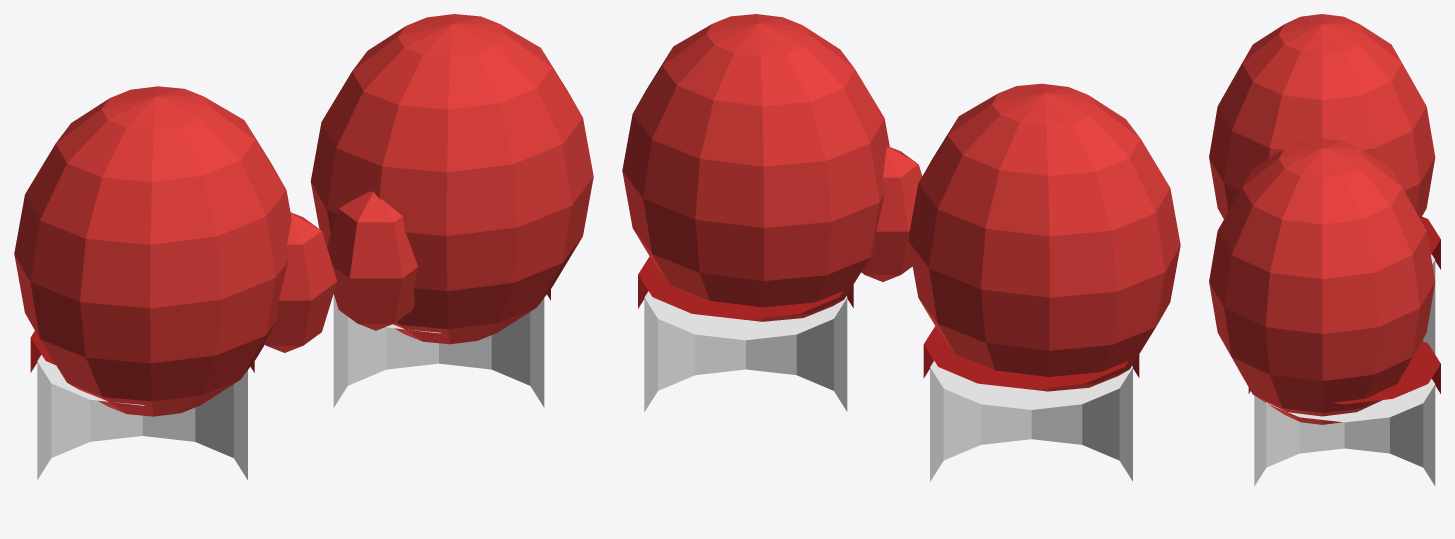
File: boxningshandske.glb
3 views of the same model, side by side, from view 1: azimuth 30°, elevation 25°; view 2: azimuth 150°, elevation 25°; view 3: azimuth 270°, elevation 25° (orthographic). The views are drawn at different scales.
Visible parts, largest first — view 1: boxningshandske; view 2: boxningshandske; view 3: boxningshandske.
Boxes of the visible parts, box(x1,y1,x2,y2) form: boxningshandske: box(14, 14, 593, 479); boxningshandske: box(622, 14, 1180, 481); boxningshandske: box(1209, 14, 1440, 485).
Size of the model in its own units: 0.48 by 0.33 by 0.205.
